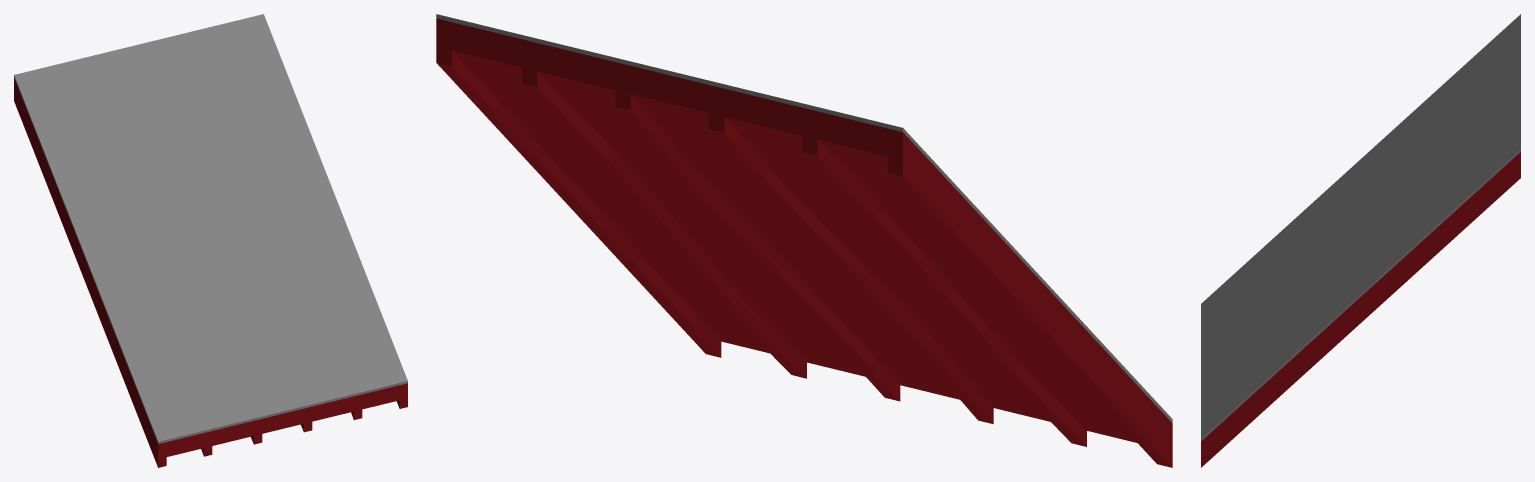
File: SM_MH_01_Slate_Roof_01.fbx
3 views of the same model, side by side, from view 1: azimuth 30°, elevation 25°; view 2: azimuth 150°, elevation 25°; view 3: azimuth 270°, elevation 25° (orthographic). The views are drawn at different scales.
Visible parts, largest first — view 1: SM_MH_01_Slate_Roof_01_LOD0; view 2: SM_MH_01_Slate_Roof_01_LOD0; view 3: SM_MH_01_Slate_Roof_01_LOD0.
Boxes of the visible parts, bbox=[...] form: SM_MH_01_Slate_Roof_01_LOD0: bbox=[14, 14, 407, 467]; SM_MH_01_Slate_Roof_01_LOD0: bbox=[436, 14, 1172, 467]; SM_MH_01_Slate_Roof_01_LOD0: bbox=[1201, 14, 1520, 467].
Size of what is drawn, in the model's own units: 300 by 330 by 300.
